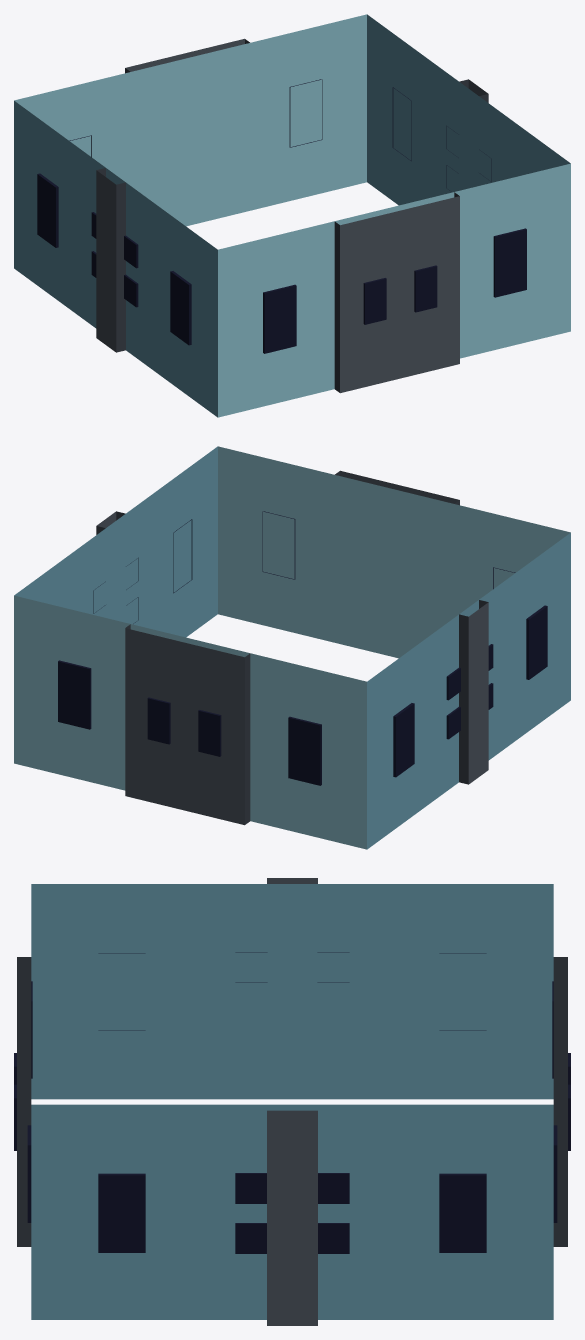
Rendered from TB_CITY_Skysc_Q_UpperBodyA_Blue.FBX.
The picture shows the model from 3 angles, top to bottom: view 1: azimuth 30°, elevation 25°; view 2: azimuth 150°, elevation 25°; view 3: azimuth 270°, elevation 25°; orthographic projection. The views are drawn at different scales.
Parts seen in each view (by area): view 1: TB_CITY_Skysc_Q_UpperBodyA_Blue; view 2: TB_CITY_Skysc_Q_UpperBodyA_Blue; view 3: TB_CITY_Skysc_Q_UpperBodyA_Blue.
Boxes of the visible parts, x1,y1,x2,y2 form: TB_CITY_Skysc_Q_UpperBodyA_Blue: [14, 14, 570, 417]; TB_CITY_Skysc_Q_UpperBodyA_Blue: [14, 446, 570, 849]; TB_CITY_Skysc_Q_UpperBodyA_Blue: [14, 878, 570, 1325].
Size of the model in its own units: 11.6 by 5 by 11.73.
